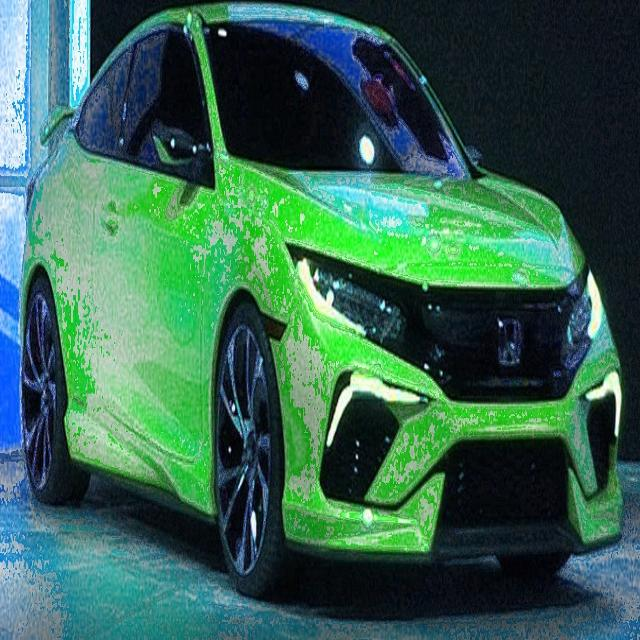green: (23, 1, 623, 594)
